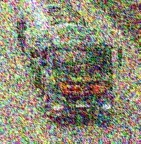truck: (8, 0, 113, 118)
